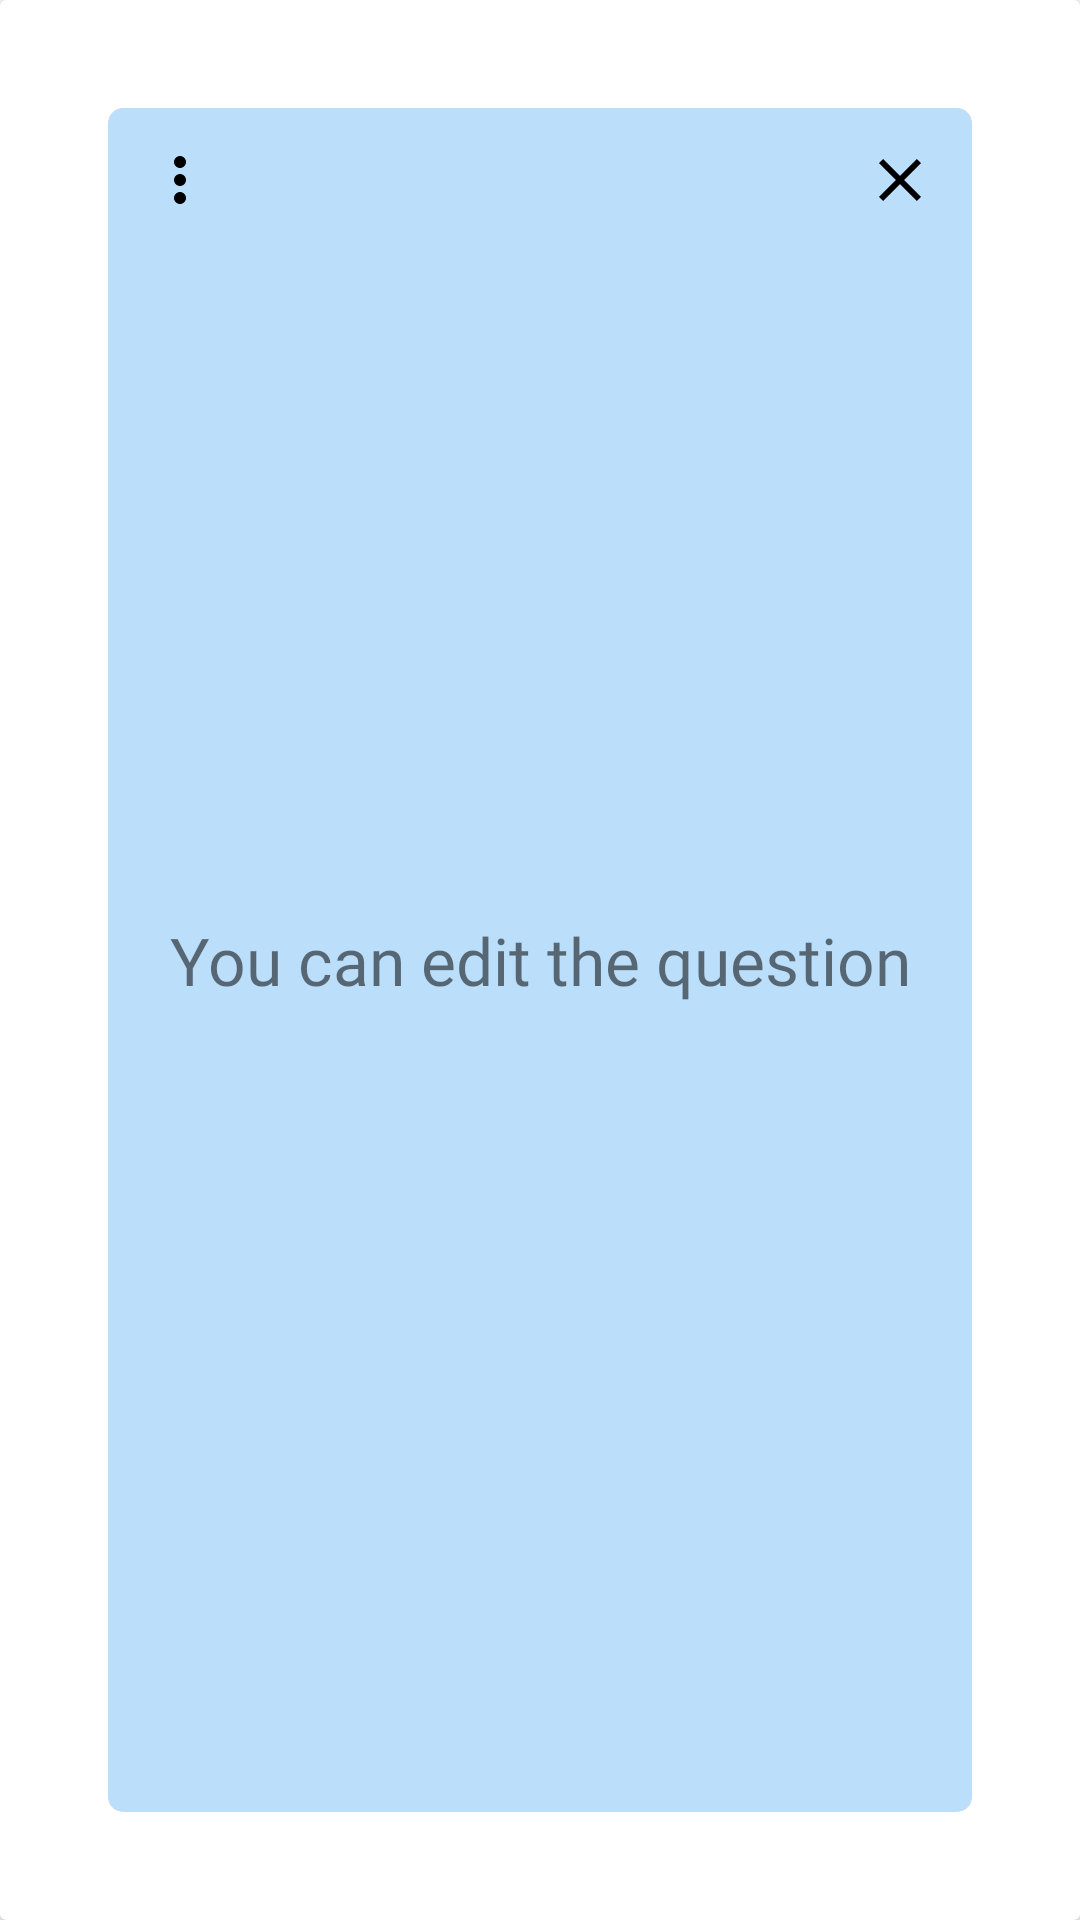

Named icons in this screenshot (1080 × 1920) and their centers, (x=x, y=y):
cancel: (x=900, y=180)
more vert: (x=180, y=180)
